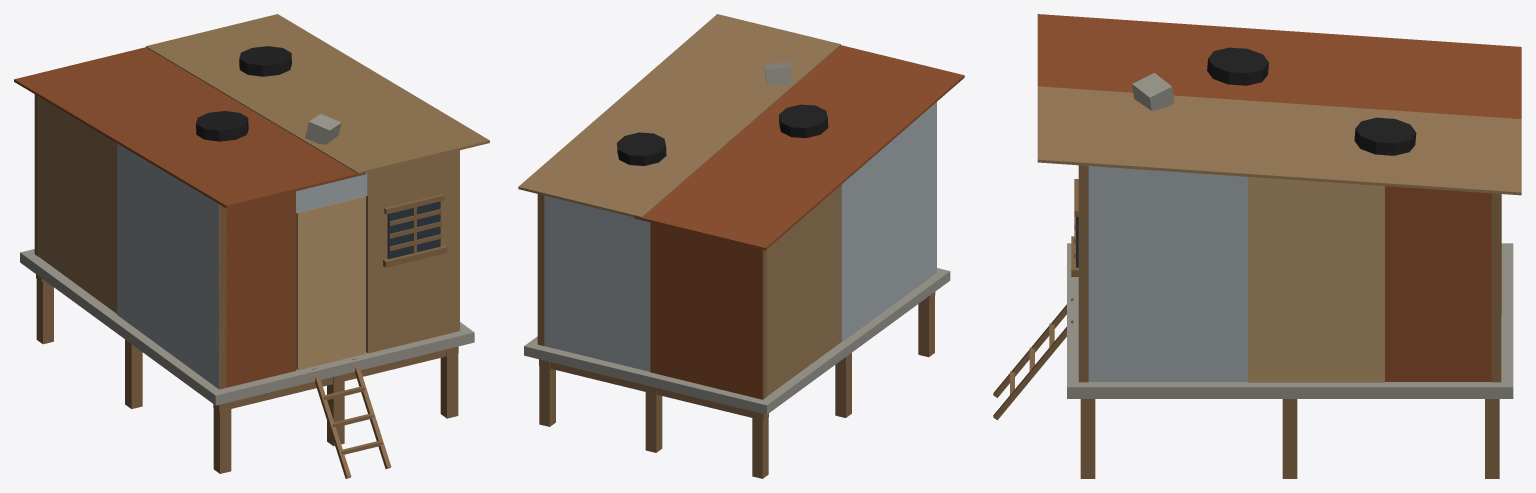
File: BAY_I_TinShack_C.glb
The picture shows the model from 3 angles, left to right: view 1: azimuth 30°, elevation 25°; view 2: azimuth 150°, elevation 25°; view 3: azimuth 270°, elevation 25°; orthographic projection. The views are drawn at different scales.
Visible parts, largest first — view 1: BAY_I_TinShack_C; view 2: BAY_I_TinShack_C; view 3: BAY_I_TinShack_C.
Boxes of the visible parts, x1,y1,x2,y2 form: BAY_I_TinShack_C: (14, 14, 489, 478); BAY_I_TinShack_C: (518, 14, 964, 478); BAY_I_TinShack_C: (993, 14, 1521, 478).
Size of the model in its own units: 3.3 by 3.58 by 5.02.
Materials: 1 (1 with a texture image).
